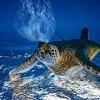Trash: (7, 1, 58, 42)
